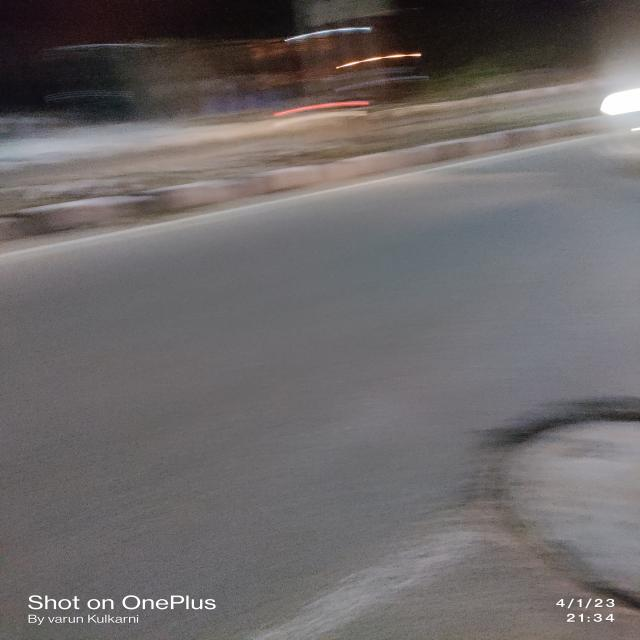potholes: (468, 380, 640, 610)
